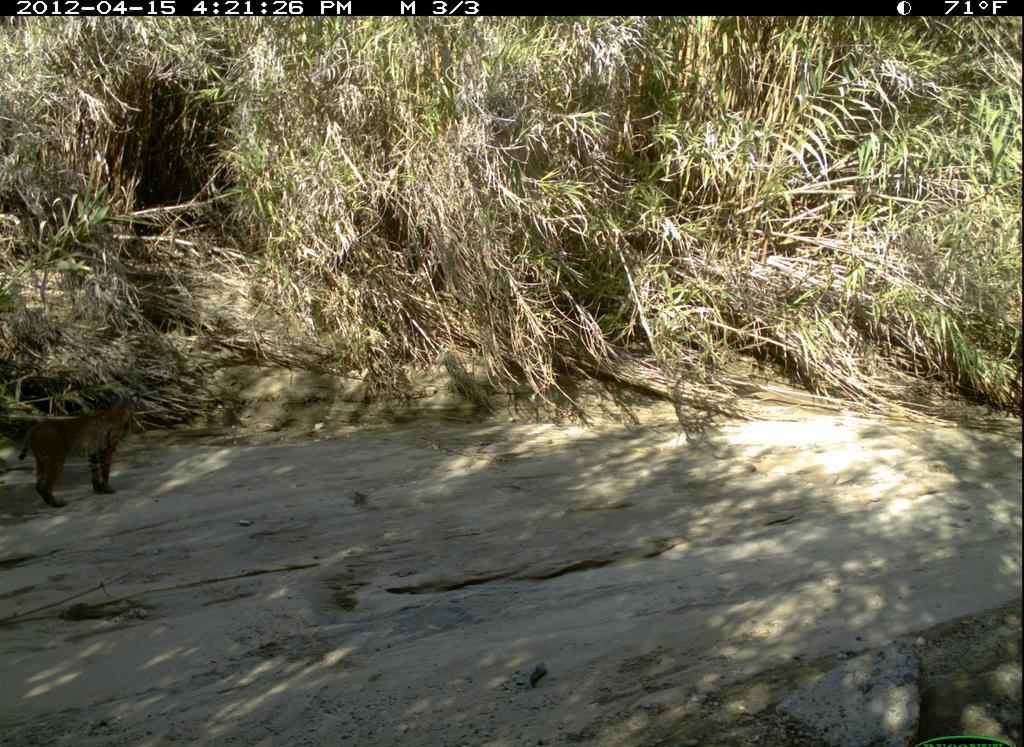bobcat: (9, 385, 173, 515)
